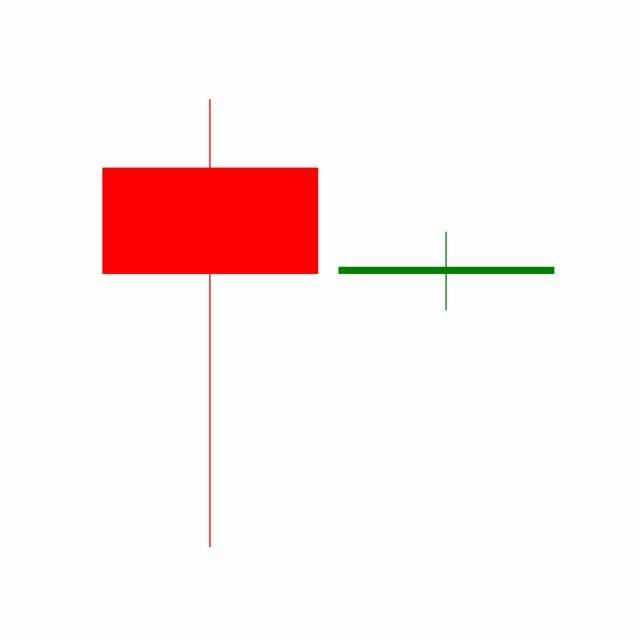Dragonfly Doji: (328, 231, 566, 312)
